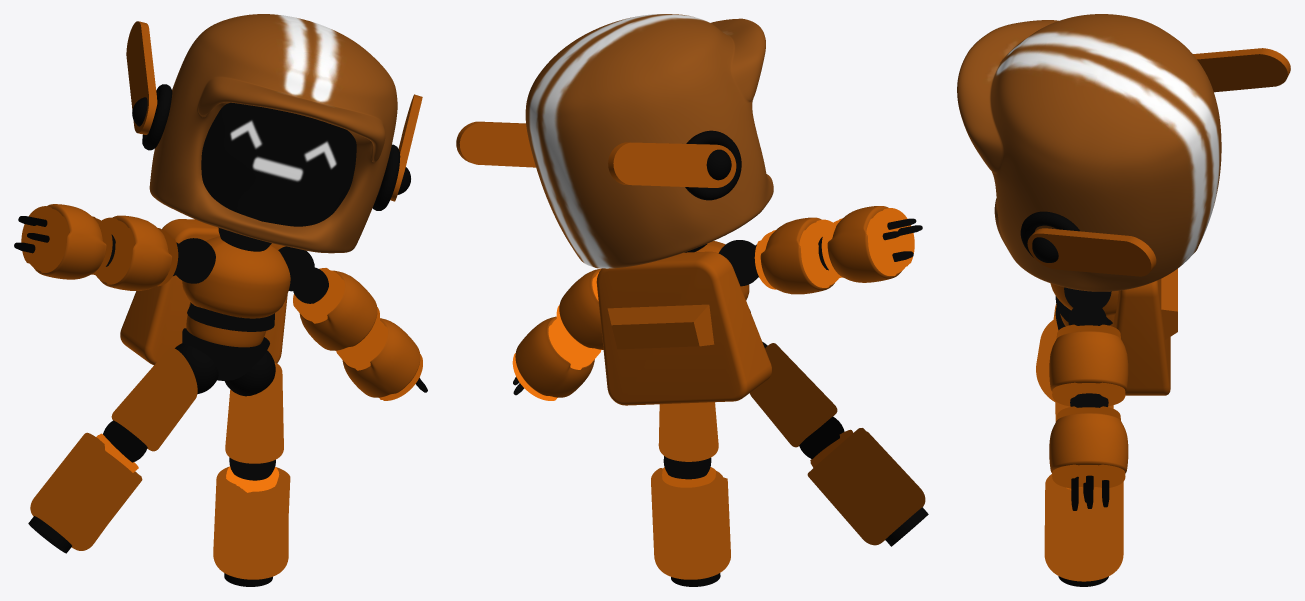
File: k-vrc.glb
3 renders of one model, left to right at view 1: azimuth 30°, elevation 25°; view 2: azimuth 150°, elevation 25°; view 3: azimuth 270°, elevation 25°, orthographic. The views are drawn at different scales.
Parts seen in each view (by area): view 1: Object_86, Object_6, Object_56, Object_8, Object_88, Object_12; view 2: Object_86, Object_6, Object_56, Object_12, Object_8; view 3: Object_86, Object_6, Object_56, Object_8, Object_12.
Part boxes in pixels (bbox=[...]): Object_86: bbox=[149, 14, 397, 253]; Object_6: bbox=[34, 21, 422, 397]; Object_56: bbox=[30, 348, 290, 579]; Object_8: bbox=[14, 84, 427, 586]; Object_88: bbox=[201, 102, 356, 226]; Object_12: bbox=[21, 206, 422, 492]; Object_86: bbox=[525, 14, 773, 268]; Object_6: bbox=[456, 121, 901, 405]; Object_56: bbox=[651, 343, 925, 579]; Object_12: bbox=[512, 208, 914, 487]; Object_8: bbox=[513, 130, 928, 586]; Object_86: bbox=[957, 14, 1221, 291]; Object_6: bbox=[1027, 48, 1290, 473]; Object_56: bbox=[1036, 304, 1123, 581]; Object_8: bbox=[1020, 211, 1112, 586]; Object_12: bbox=[1052, 324, 1125, 490].
Size of what is drawn, in the model's own units: 9.12 by 10.99 by 5.92.
Materials: 6 (2 with a texture image).
